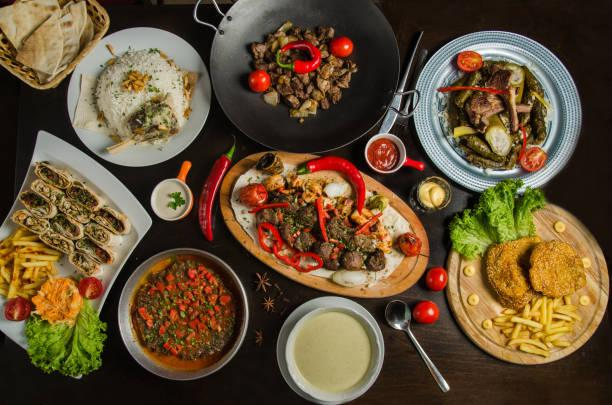Braised Crucian Carp: (1, 133, 152, 370), (218, 150, 424, 296), (205, 1, 400, 154), (412, 30, 582, 194), (446, 201, 608, 365), (68, 26, 209, 167), (117, 247, 248, 381), (274, 295, 384, 404)
